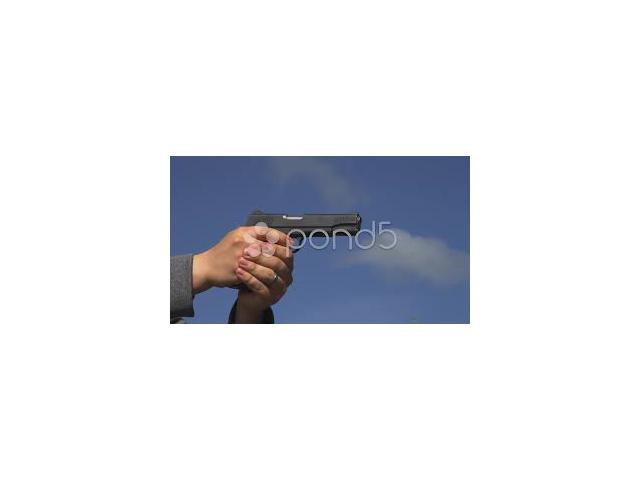pistol: (234, 210, 362, 293)
